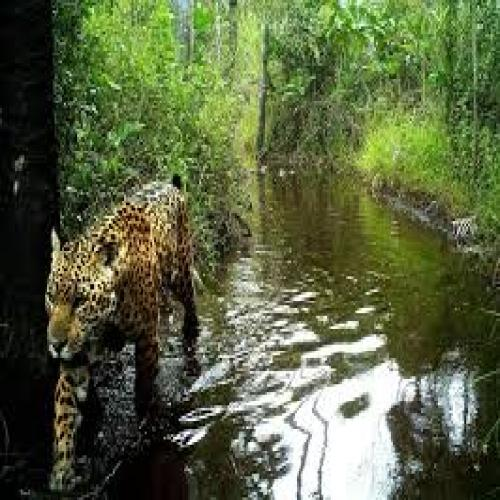jaguar_not-endangered: (43, 174, 201, 492)
